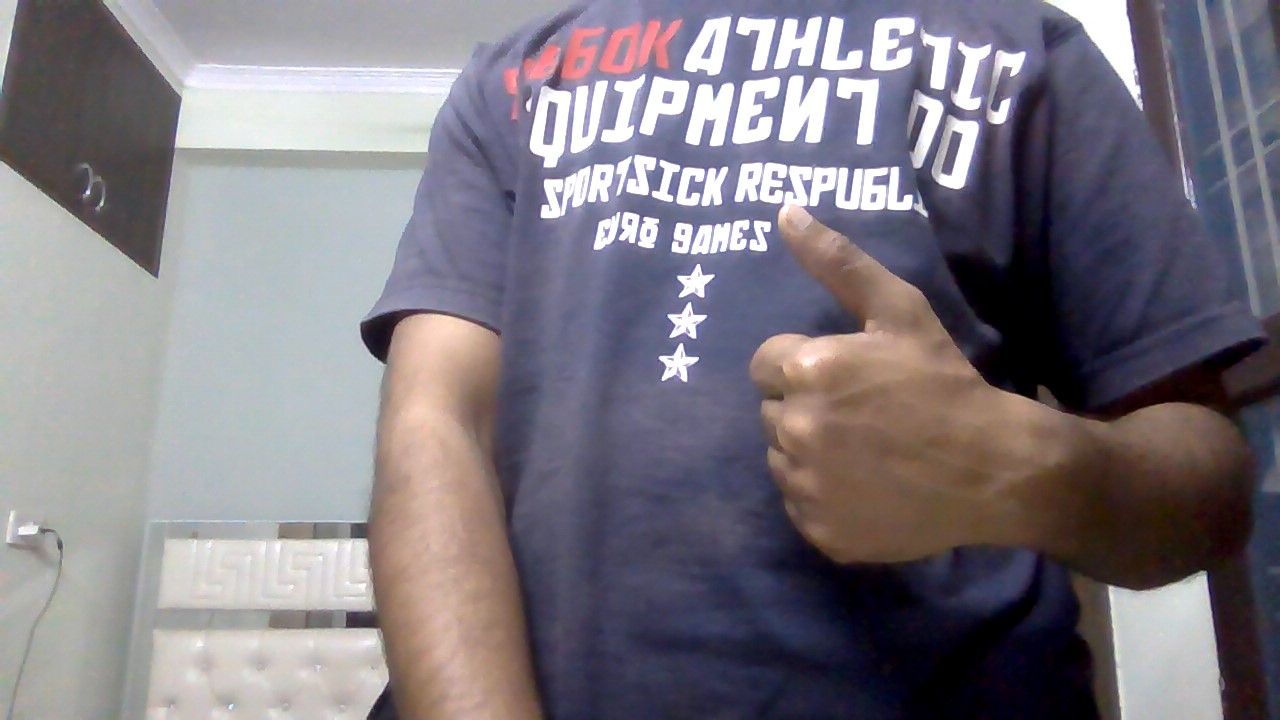Save: (737, 197, 1037, 604)
